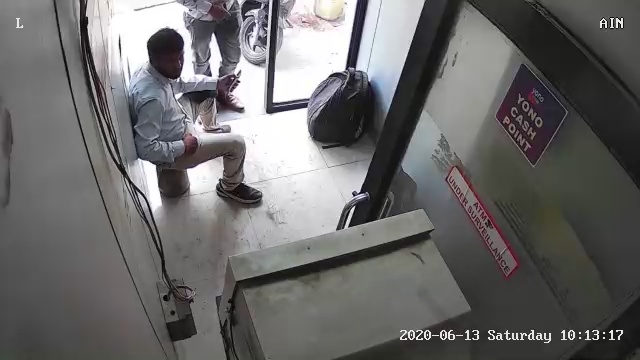open: (177, 8, 388, 122)
